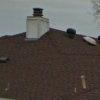Chimney: (19, 3, 51, 45)
